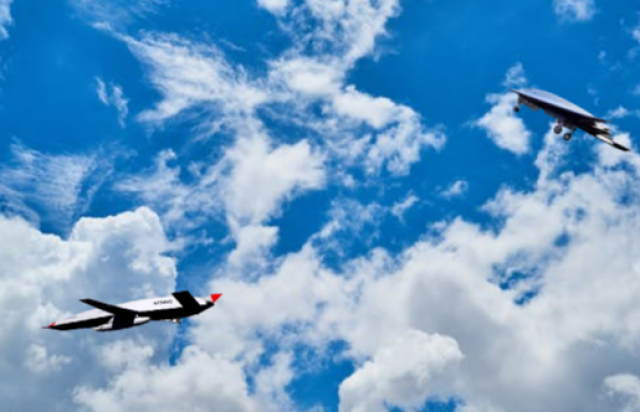military drone: (508, 86, 631, 152), (39, 289, 223, 332)
